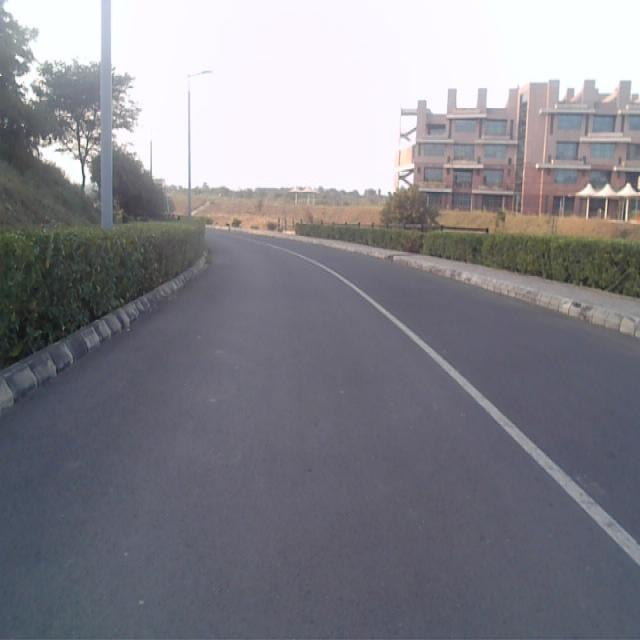lane: (0, 232, 640, 640)
